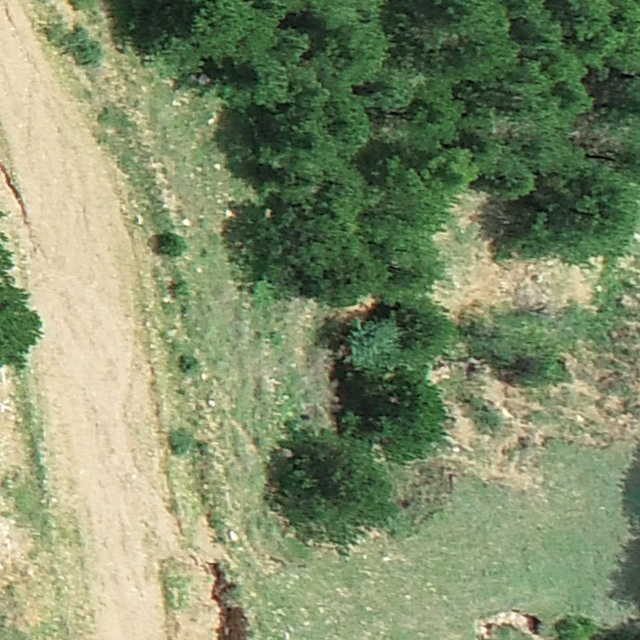unhealthy: (569, 111, 619, 159)
